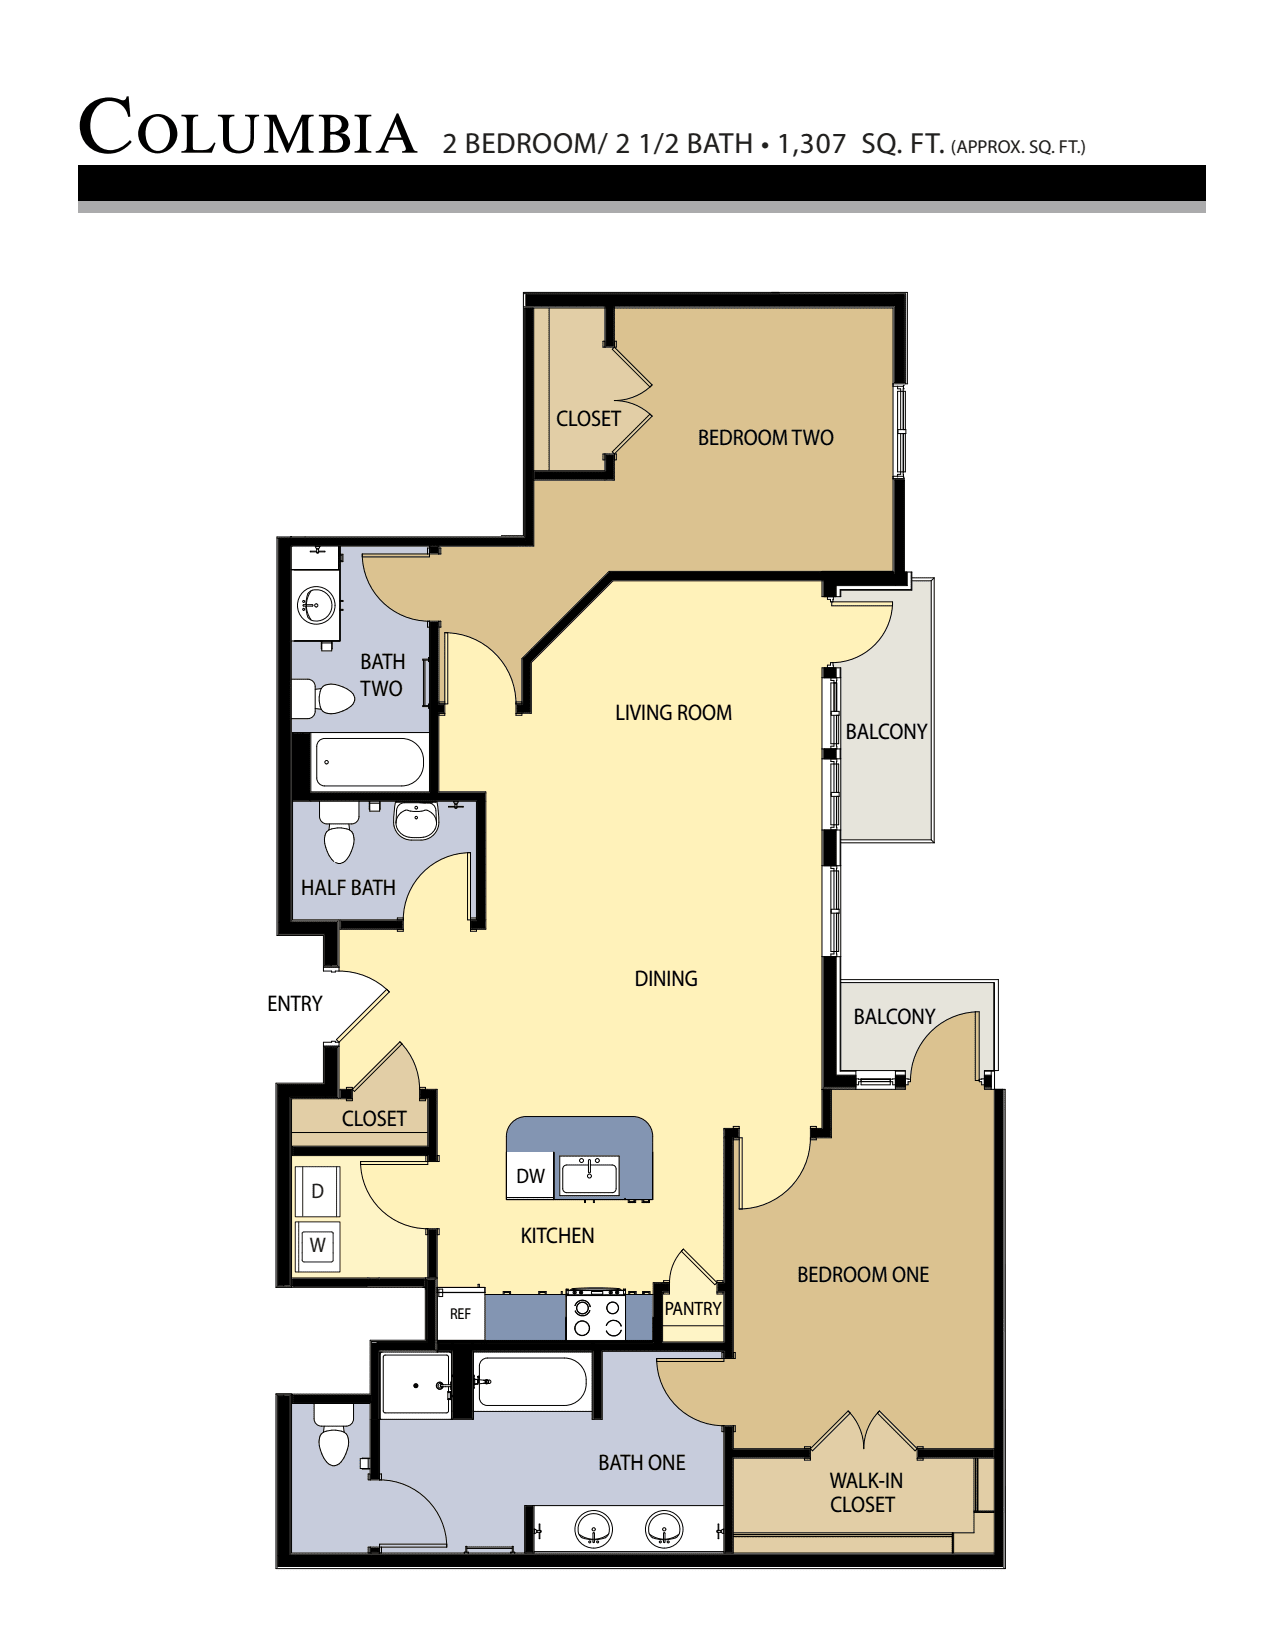door: (814, 1393, 916, 1450), (904, 1008, 984, 1075), (737, 1141, 813, 1211), (358, 549, 425, 625), (652, 1353, 718, 1430), (443, 627, 516, 696), (402, 848, 471, 917), (383, 1480, 451, 1550), (358, 1158, 421, 1233), (609, 350, 658, 447), (838, 600, 896, 666), (340, 971, 391, 1041), (354, 1041, 423, 1087), (656, 1247, 719, 1280)
